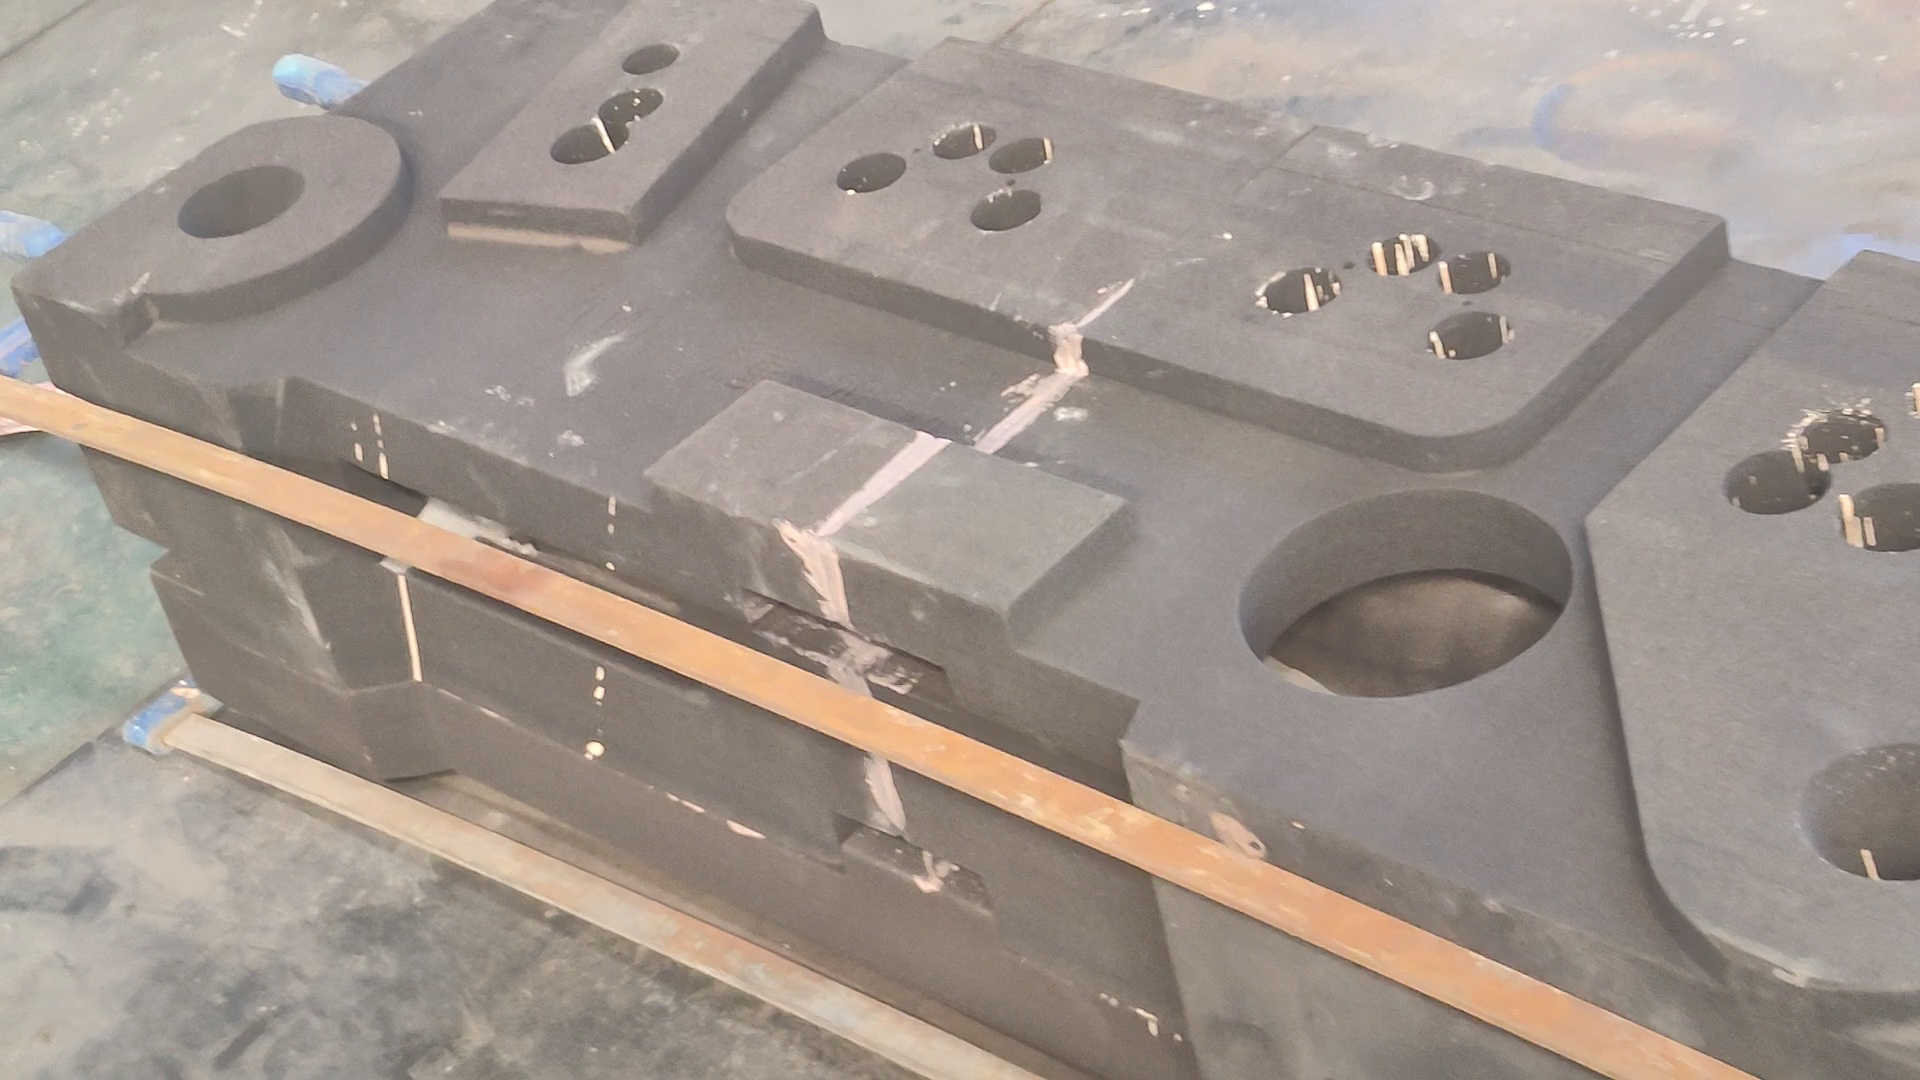pouring hole: (1797, 740, 1920, 882), (177, 164, 307, 239)
